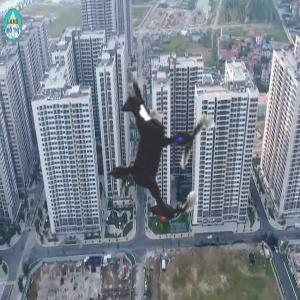drone: (48, 40, 274, 266)
